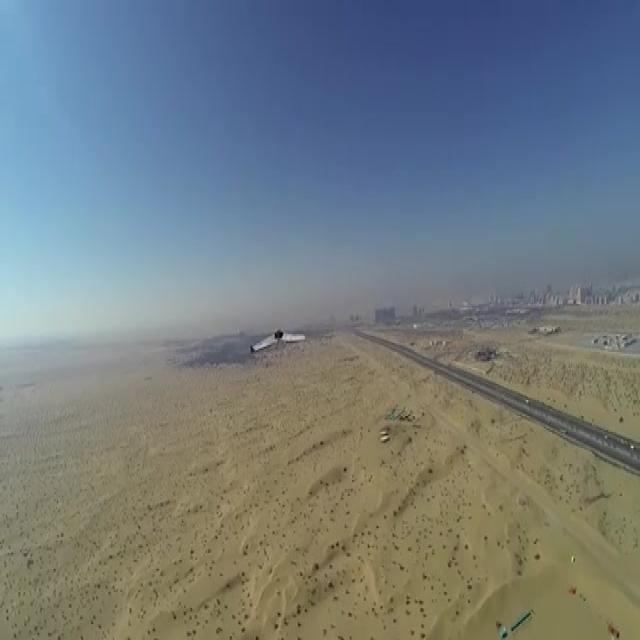iha: (250, 329, 306, 353)
